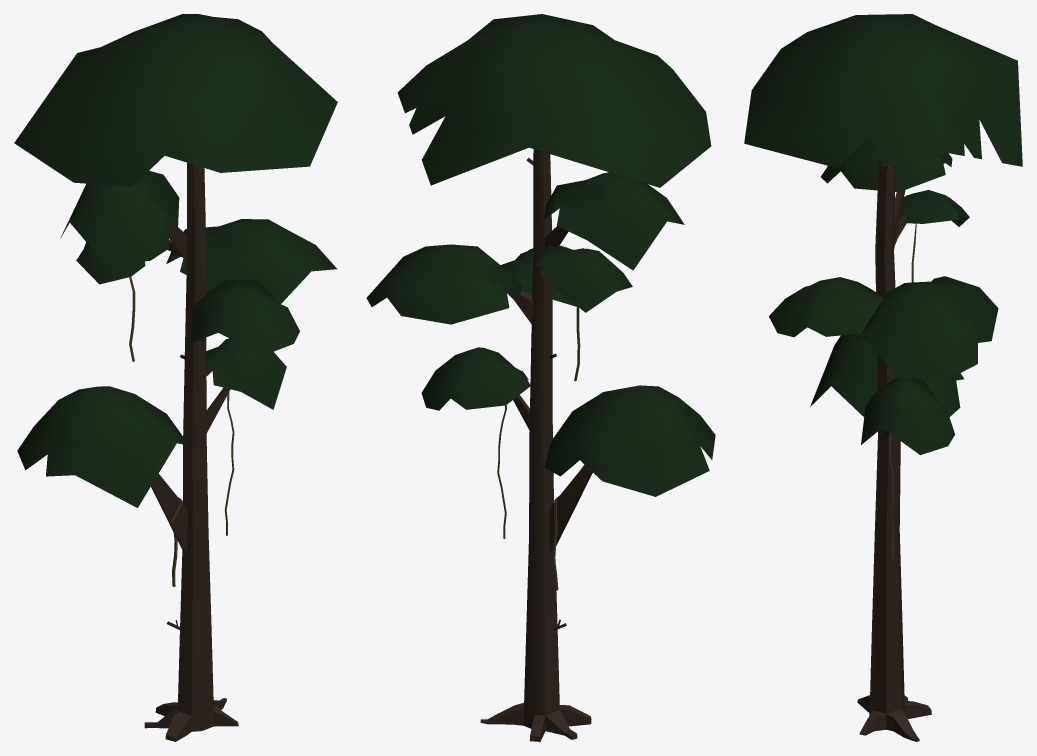
Rendered from M_Arbre_02.FBX.
3 views of the same model, side by side, from view 1: azimuth 30°, elevation 25°; view 2: azimuth 150°, elevation 25°; view 3: azimuth 270°, elevation 25° (orthographic).
Parts seen in each view (by area): view 1: M_Feuilles_02, M_Tronc_02, M_Lianes_02; view 2: M_Feuilles_02, M_Tronc_02, M_Lianes_02; view 3: M_Feuilles_02, M_Tronc_02.
Boxes of the visible parts, x1,y1,x2,y2 form: M_Feuilles_02: [14, 14, 337, 507]; M_Tronc_02: [144, 162, 238, 741]; M_Lianes_02: [129, 277, 234, 586]; M_Feuilles_02: [366, 14, 715, 496]; M_Tronc_02: [480, 149, 592, 741]; M_Lianes_02: [497, 306, 580, 590]; M_Feuilles_02: [744, 14, 1022, 454]; M_Tronc_02: [857, 158, 931, 741].
Bounding box in the file's own units: 35.53 × 74.91 × 27.1.
